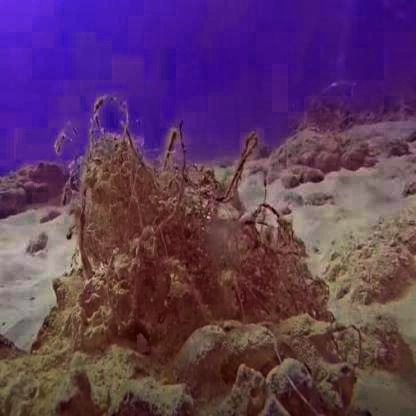net: (76, 128, 304, 348)
